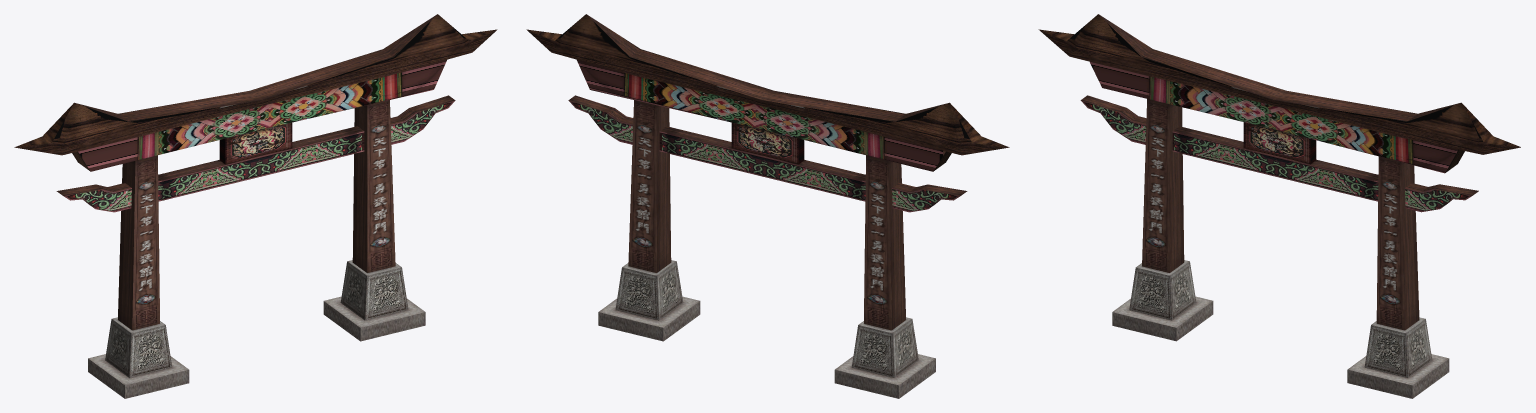
File: ob-035-woodgate_lod_01.fbx
The picture shows the model from 3 angles, left to right: view 1: azimuth 30°, elevation 25°; view 2: azimuth 150°, elevation 25°; view 3: azimuth 330°, elevation 25°; orthographic projection.
Visible parts, largest first — view 1: ob-035-woodgate; view 2: ob-035-woodgate; view 3: ob-035-woodgate.
Part boxes in pixels (bbox=[...]): ob-035-woodgate: bbox=[14, 14, 497, 398]; ob-035-woodgate: bbox=[526, 14, 1009, 398]; ob-035-woodgate: bbox=[1038, 14, 1520, 398].
Size of the model in its own units: 14.4 by 8.27 by 1.91.
